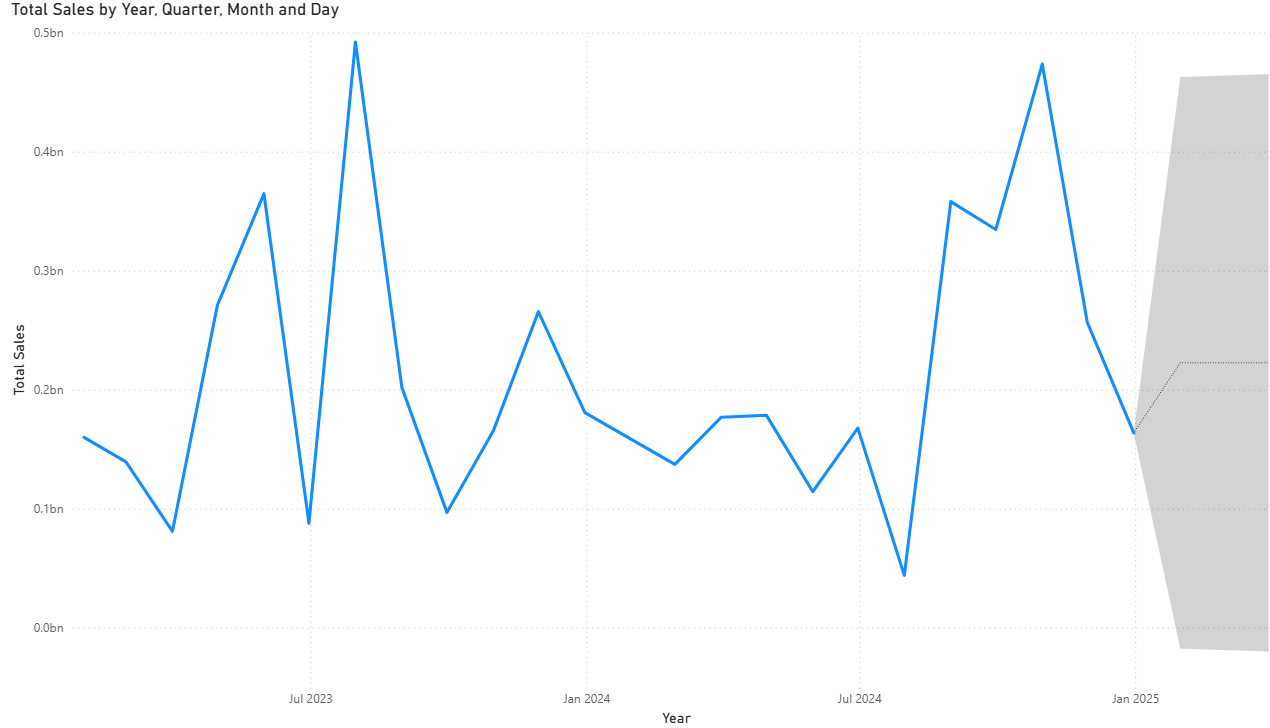

The page's visual inventory and layout, read from the dashboard file:
{"tool":"powerbi","page":{"name":"Total Sales Forecast","canvas":[1280,720],"ordinal":2},"visuals":[{"type":"lineChart","fields":{"Y":["techzone_sales_extended_100.Total Sales"],"Category":["DateTable.Date.Variation.Date Hierarchy.Year","DateTable.Date.Variation.Date Hierarchy.Quarter","DateTable.Date.Variation.Date Hierarchy.Month","DateTable.Date.Variation.Date Hierarchy.Day"]},"box":[10.3,0,1269.6,720],"z":0}]}

Visuals, with their boxes in screenshot pixels (x1, y1, x2, y2), scaled from the page's 1280x720 canvas onto the 1270x728 screenshot:
lineChart - techzone_sales_extended_100.Total Sales x DateTable.Date.Variation.Date Hierarchy.Year: BBox(10, 0, 1269, 727)
